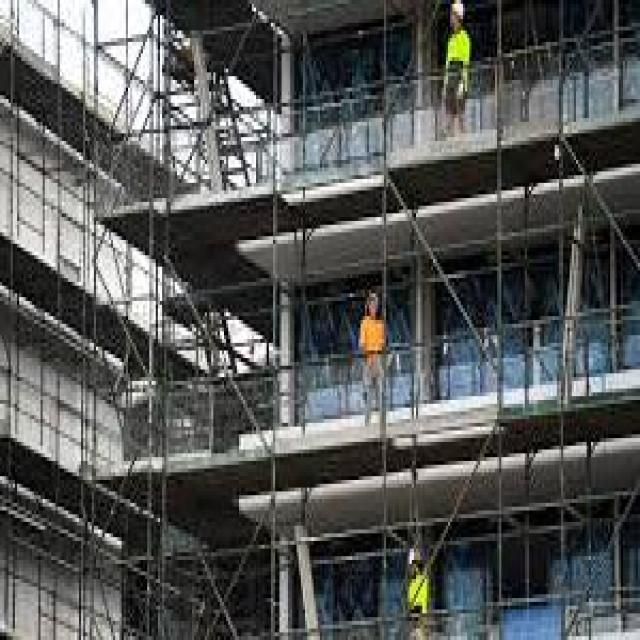Reflective-Jacket: (441, 27, 478, 95)
Safety-Helmet: (446, 0, 471, 27)
